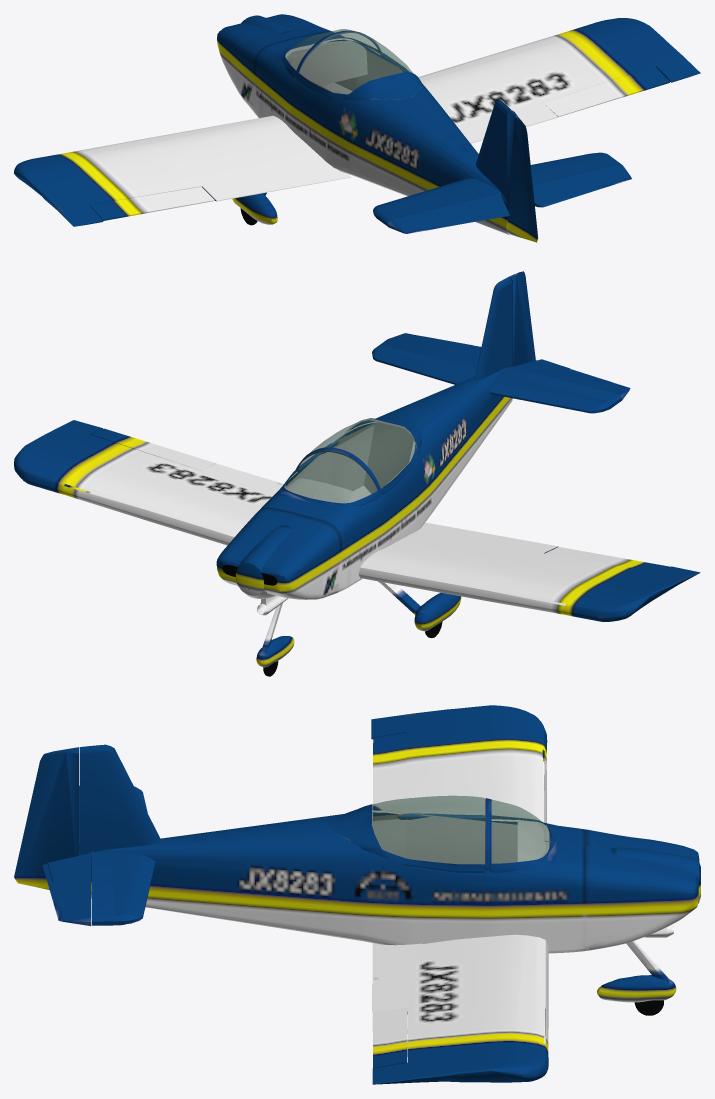
The picture shows the model from 3 angles, top to bottom: view 1: azimuth 30°, elevation 25°; view 2: azimuth 150°, elevation 25°; view 3: azimuth 270°, elevation 25°; orthographic projection. The views are drawn at different scales.
Parts seen in each view (by area): view 1: Fuselage.left_Cube.004, Wing.left_Cube.014, Wing.right_Cube.019, elevator_Cube.007, Canopy.rear_Sphere.006, Hstab_Cube.006, Cockpit_Cube.016, rudder_Cube.005, Fuselage.right_Cube.002, flap.Left_Cube.012, aileron.Right_Cube.017, Vstab.left_Cube.001 (+8 smaller); view 2: Fuselage.left_Cube.004, Wing.left_Cube.014, Wing.right_Cube.019, Hstab_Cube.006, Cockpit_Cube.016, Fuselage.right_Cube.002, Canopy.rear_Sphere.006, Canopy.front_Sphere.004, Vstab.left_Cube.001, elevator_Cube.007, Fuselage.front_Cylinder, rudder_Cube.005 (+7 smaller); view 3: Fuselage.right_Cube.002, Wing.right_Cube.019, Wing.left_Cube.014, Canopy.rear_Sphere.006, Cockpit_Cube.016, Vstab.right_Cube.008, rudder.1_Cube.015, Hstab_Cube.006, Fuselage.left_Cube.004, Canopy.front_Sphere.004, elevator_Cube.007, aileron.Left_Cube.009 (+7 smaller).
Part boxes in pixels (left/top/right/bottom): Fuselage.left_Cube.004: left=217, top=23, right=510, bottom=234; Wing.left_Cube.014: left=14, top=115, right=327, bottom=226; Wing.right_Cube.019: left=418, top=18, right=700, bottom=129; elevator_Cube.007: left=387, top=164, right=631, bottom=233; Canopy.rear_Sphere.006: left=299, top=31, right=412, bottom=93; Hstab_Cube.006: left=373, top=152, right=622, bottom=226; Cockpit_Cube.016: left=287, top=40, right=403, bottom=94; rudder_Cube.005: left=507, top=110, right=537, bottom=242; Fuselage.right_Cube.002: left=266, top=14, right=510, bottom=234; flap.Left_Cube.012: left=202, top=163, right=350, bottom=201; aileron.Right_Cube.017: left=543, top=66, right=669, bottom=117; Vstab.left_Cube.001: left=476, top=99, right=510, bottom=200; Fuselage.left_Cube.004: left=262, top=368, right=512, bottom=599; Wing.left_Cube.014: left=358, top=530, right=700, bottom=621; Wing.right_Cube.019: left=14, top=420, right=275, bottom=545; Hstab_Cube.006: left=372, top=338, right=621, bottom=413; Cockpit_Cube.016: left=286, top=422, right=415, bottom=503; Fuselage.right_Cube.002: left=216, top=376, right=476, bottom=585; Canopy.rear_Sphere.006: left=299, top=419, right=415, bottom=488; Canopy.front_Sphere.004: left=284, top=450, right=376, bottom=502; Vstab.left_Cube.001: left=474, top=277, right=512, bottom=380; elevator_Cube.007: left=389, top=333, right=630, bottom=400; Fuselage.front_Cylinder: left=235, top=525, right=290, bottom=598; rudder_Cube.005: left=509, top=271, right=534, bottom=398; Fuselage.right_Cube.002: left=79, top=824, right=698, bottom=953; Wing.right_Cube.019: left=372, top=934, right=548, bottom=1084; Wing.left_Cube.014: left=371, top=705, right=547, bottom=823; Canopy.rear_Sphere.006: left=372, top=795, right=485, bottom=863; Cockpit_Cube.016: left=372, top=813, right=546, bottom=864; Vstab.right_Cube.008: left=79, top=744, right=161, bottom=855; rudder.1_Cube.015: left=15, top=747, right=78, bottom=889; Hstab_Cube.006: left=92, top=786, right=155, bottom=925; Fuselage.left_Cube.004: left=79, top=810, right=698, bottom=860; Canopy.front_Sphere.004: left=491, top=800, right=551, bottom=863; elevator_Cube.007: left=47, top=785, right=91, bottom=926; aileron.Left_Cube.009: left=373, top=732, right=406, bottom=810.
Bounding box in the file's own units: 7.5 × 2.59 × 5.96.
8 materials, 5 textured.
